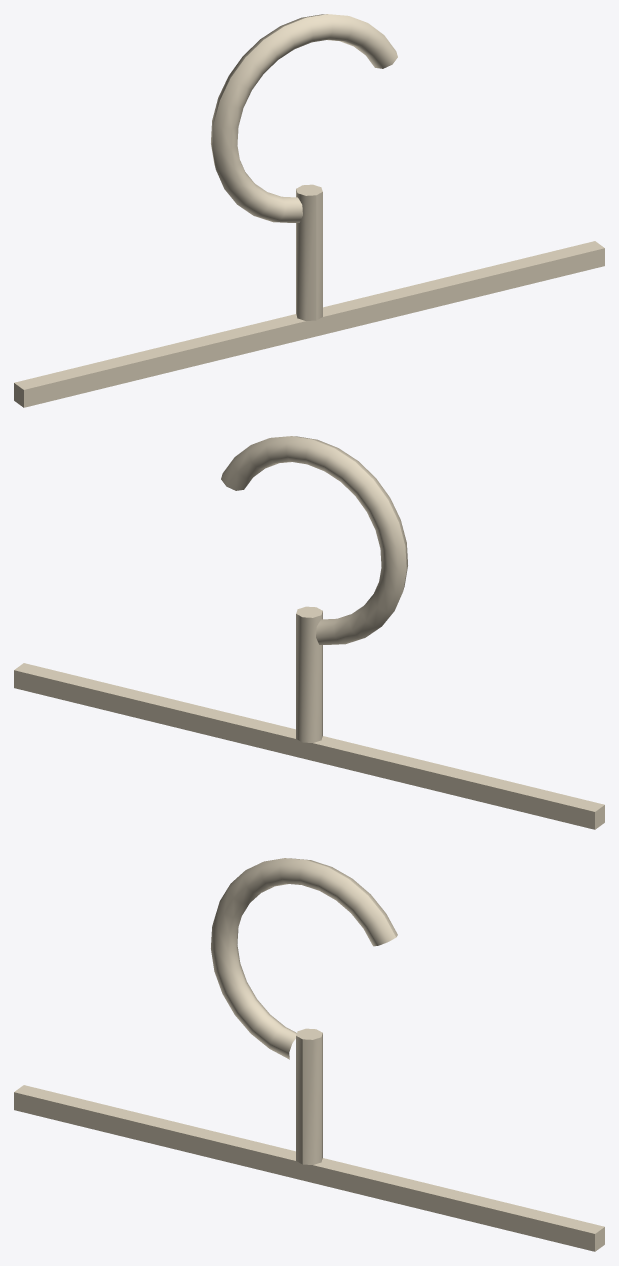
The model's file is mdl-hanger.5a1292b8.glb.
3 renders of one model, top to bottom at view 1: azimuth 30°, elevation 25°; view 2: azimuth 150°, elevation 25°; view 3: azimuth 330°, elevation 25°, orthographic.
Visible parts, largest first — view 1: hanger; view 2: hanger; view 3: hanger.
Boxes of the visible parts, x1,y1,x2,y2 form: hanger: (14, 14, 604, 407); hanger: (14, 436, 604, 829); hanger: (14, 858, 604, 1251).
Bounding box in the file's own units: 0.34 × 0.177 × 0.014.
